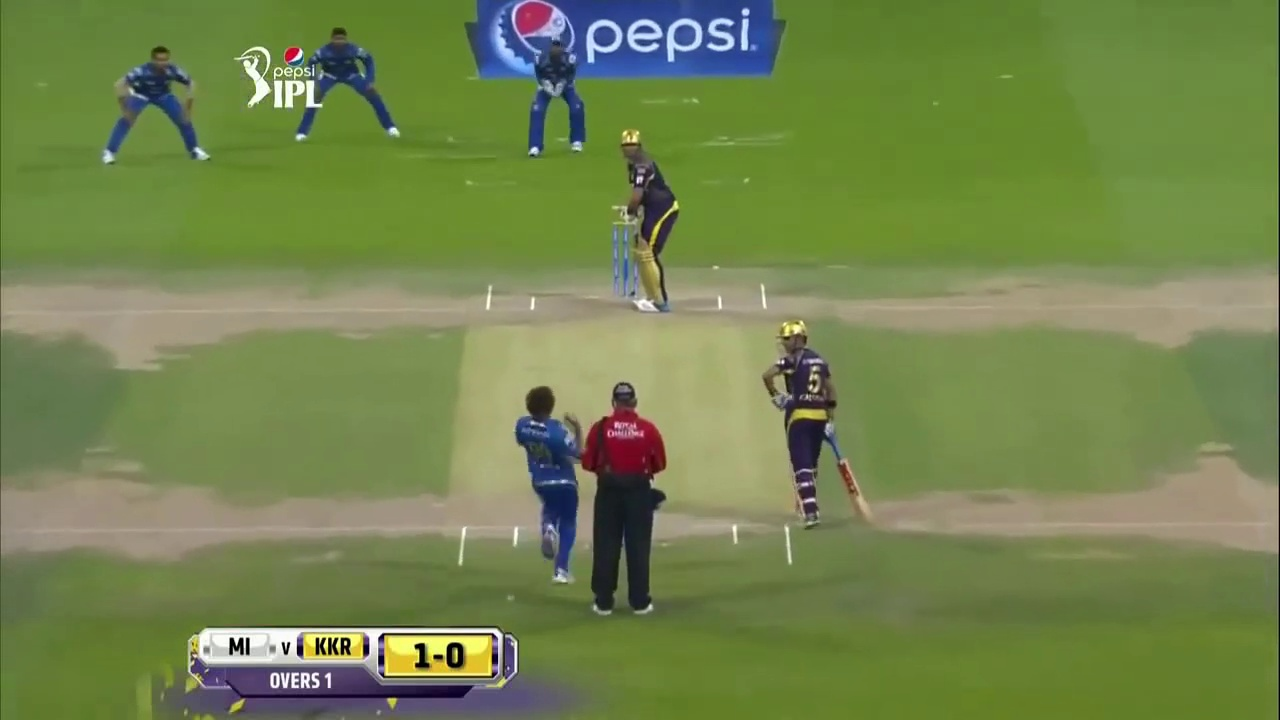bat: (828, 438, 880, 528)
